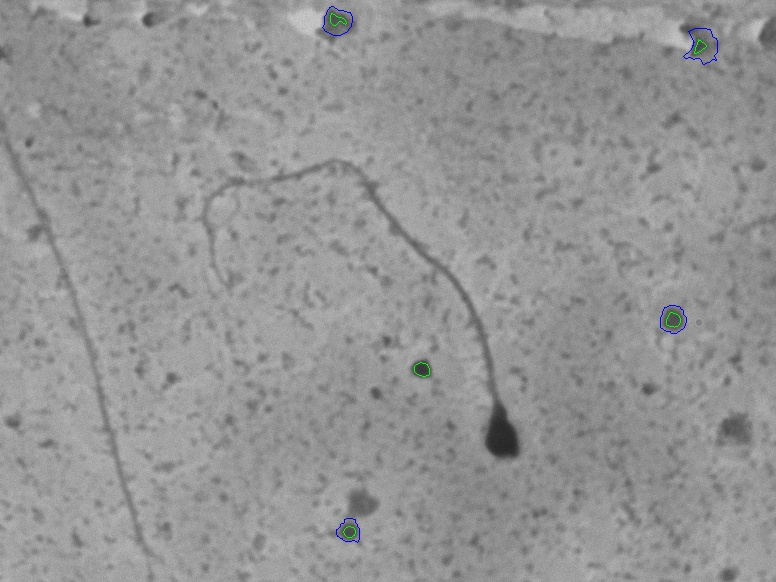Abnormal: (173, 111, 552, 505)
